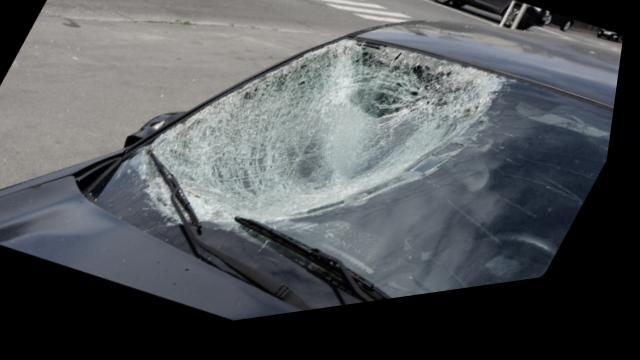glass shatter: (95, 47, 619, 321)
